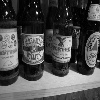beer: (20, 3, 48, 87)
